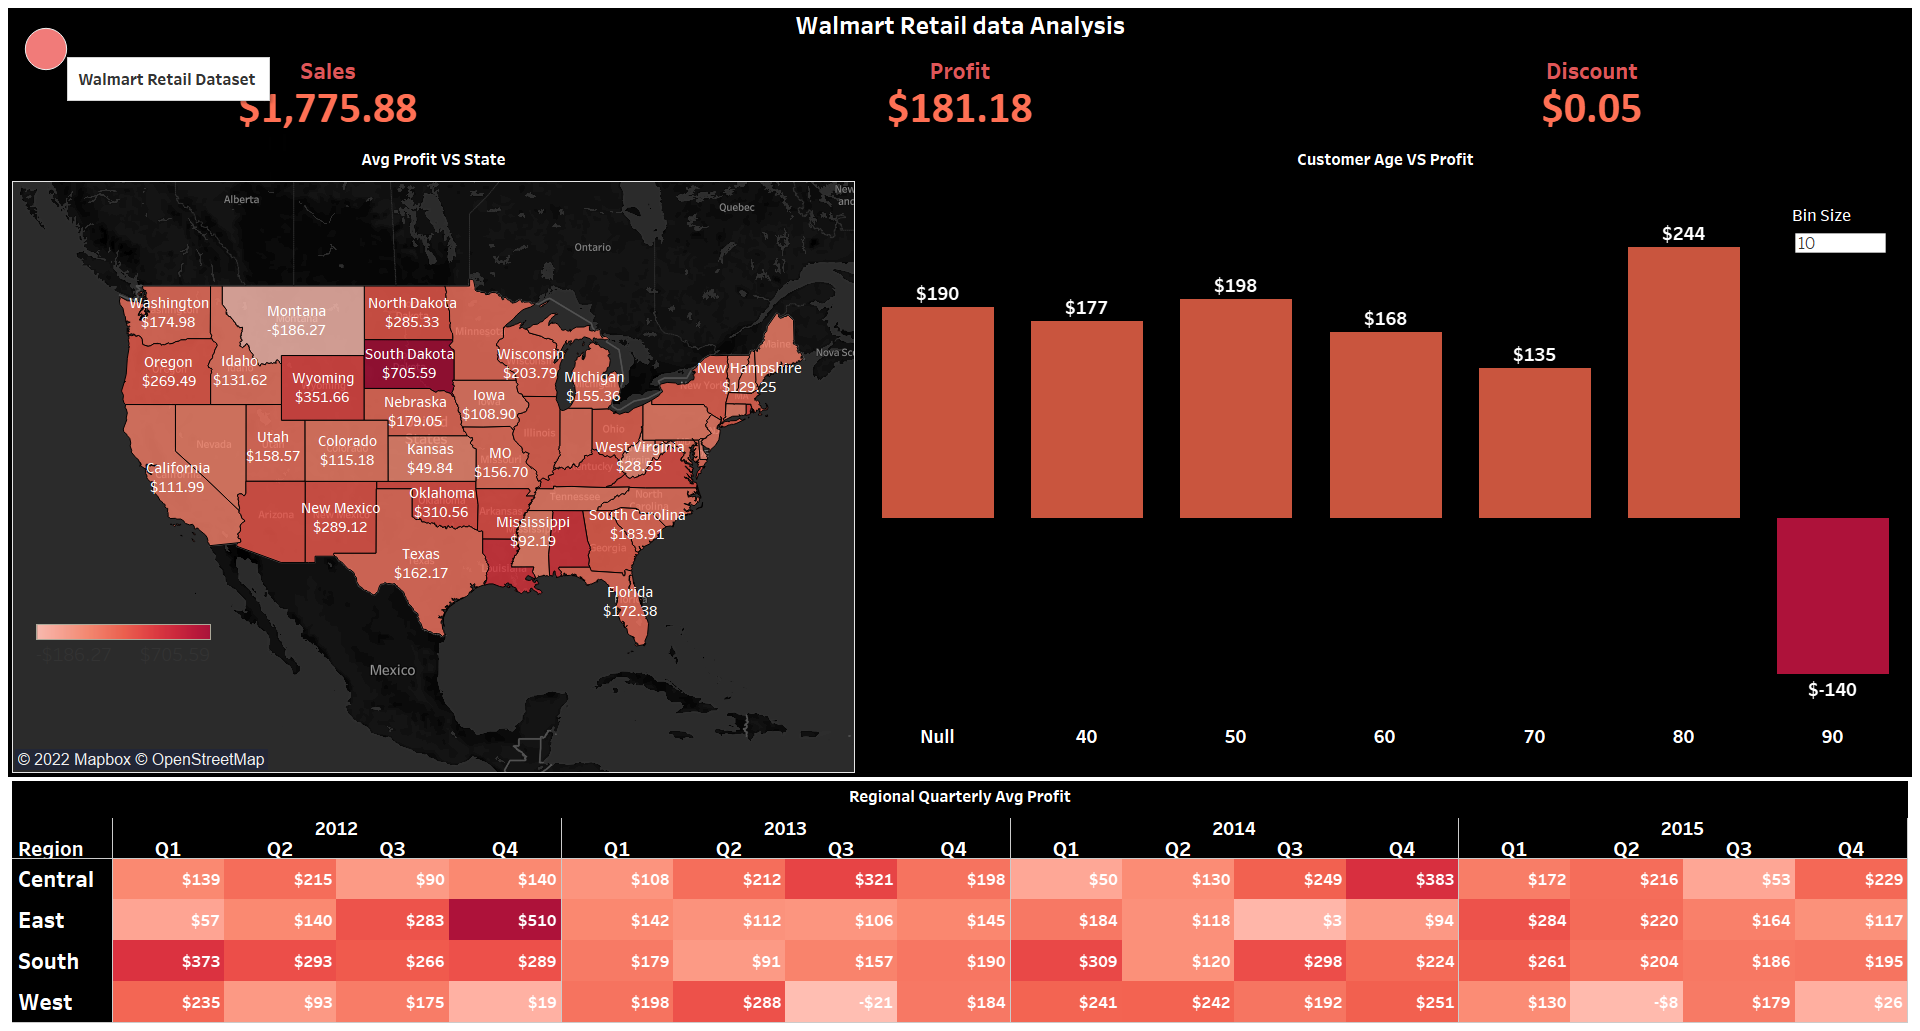

The dashboard page shown, as its layout file describes it:
{"tool":"tableau","page":{"name":"Dashboard 1","canvas":[1000,1000],"units":"permille","ordinal":0},"visuals":[{"type":"text","box":[5,9.9,990,41]},{"type":"worksheet","title":"info","mark":"Circle","box":[12.5,23.6,23.1,47.1]},{"type":"blank","box":[5,50.9,990,18.6]},{"type":"worksheet","title":"avg SPD","mark":"Automatic","box":[5,69.5,990,101.7]},{"type":"worksheet","title":"avg VS state","mark":"Multipolygon","box":[5,173.7,530.5,575.6]},{"type":"worksheet","title":"loss","mark":"Automatic","rows":["Profit"],"cols":["Customer Age (bin)"],"box":[535.5,173.7,459.4,575.6]},{"type":"parameter","param":"[Parameters].[Parameter 1]","box":[933.3,197.3,50.5,78.2]},{"type":"legend","title":"avg VS state","param":"[federated.05pib390i9ice015k579715qkue2].[avg:Profit:qk]","box":[16.8,599.3,95.4,58.3]},{"type":"worksheet","title":"Regional profit","mark":"Square","rows":["Region"],"cols":["Order Date","Order Date"],"box":[5,749.3,990,240.8]}]}

Visuals, with their boxes on the dashboard's canvas, which has no fixed pixel size, in thousandths of its width and height (x1, y1, x2, y2). These are canvas units, not pixel positions in the 1920x1031 screenshot, which may show the page scaled, cropped or inside an application window:
text: pyautogui.locateOnScreen(5, 10, 995, 51)
"info" worksheet (Circle marks): pyautogui.locateOnScreen(12, 24, 36, 71)
blank: pyautogui.locateOnScreen(5, 51, 995, 70)
"avg SPD" worksheet: pyautogui.locateOnScreen(5, 70, 995, 171)
"avg VS state" worksheet (Multipolygon marks): pyautogui.locateOnScreen(5, 174, 536, 749)
"loss" worksheet: pyautogui.locateOnScreen(536, 174, 995, 749)
parameter: pyautogui.locateOnScreen(933, 197, 984, 276)
"avg VS state" legend: pyautogui.locateOnScreen(17, 599, 112, 658)
"Regional profit" worksheet (Square marks): pyautogui.locateOnScreen(5, 749, 995, 990)
